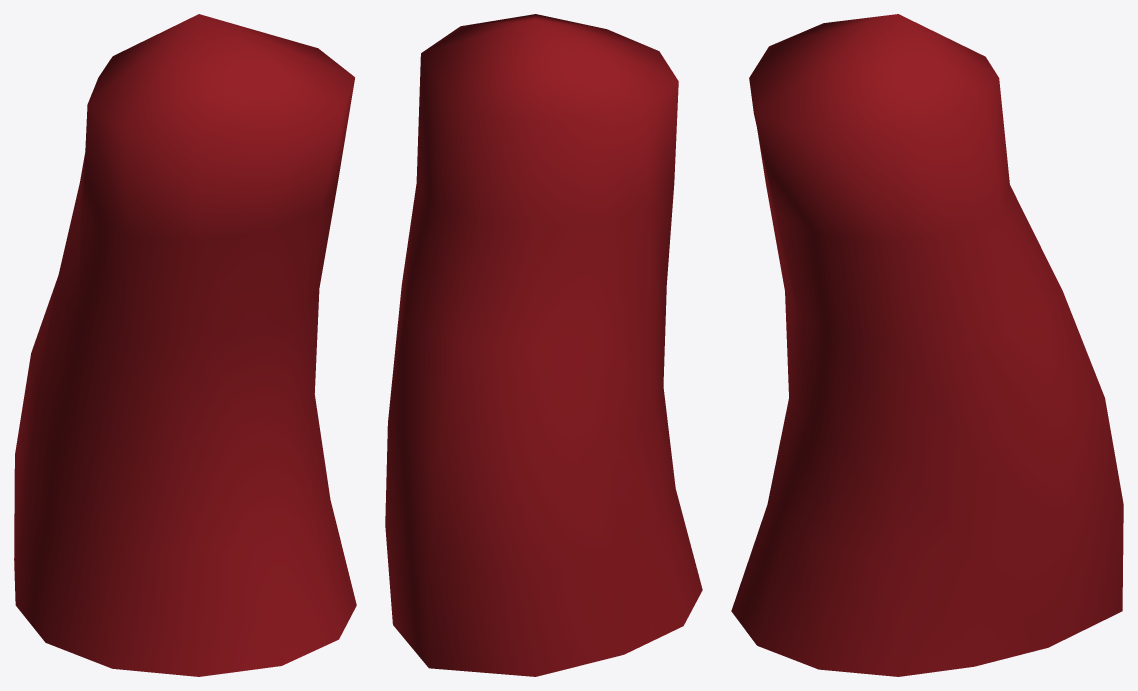
The model's file is santa_costume_boot.L.glb.
3 renders of one model, left to right at view 1: azimuth 30°, elevation 25°; view 2: azimuth 150°, elevation 25°; view 3: azimuth 270°, elevation 25°, orthographic. The views are drawn at different scales.
Visible parts, largest first — view 1: santa_costume_boot.L; view 2: santa_costume_boot.L; view 3: santa_costume_boot.L.
Part boxes in pixels (left/top/right/bottom): santa_costume_boot.L: left=14, top=14, right=356, bottom=676; santa_costume_boot.L: left=385, top=14, right=702, bottom=676; santa_costume_boot.L: left=731, top=14, right=1123, bottom=676.
Bounding box in the file's own units: 0.1461 × 0.288 × 0.1715.
